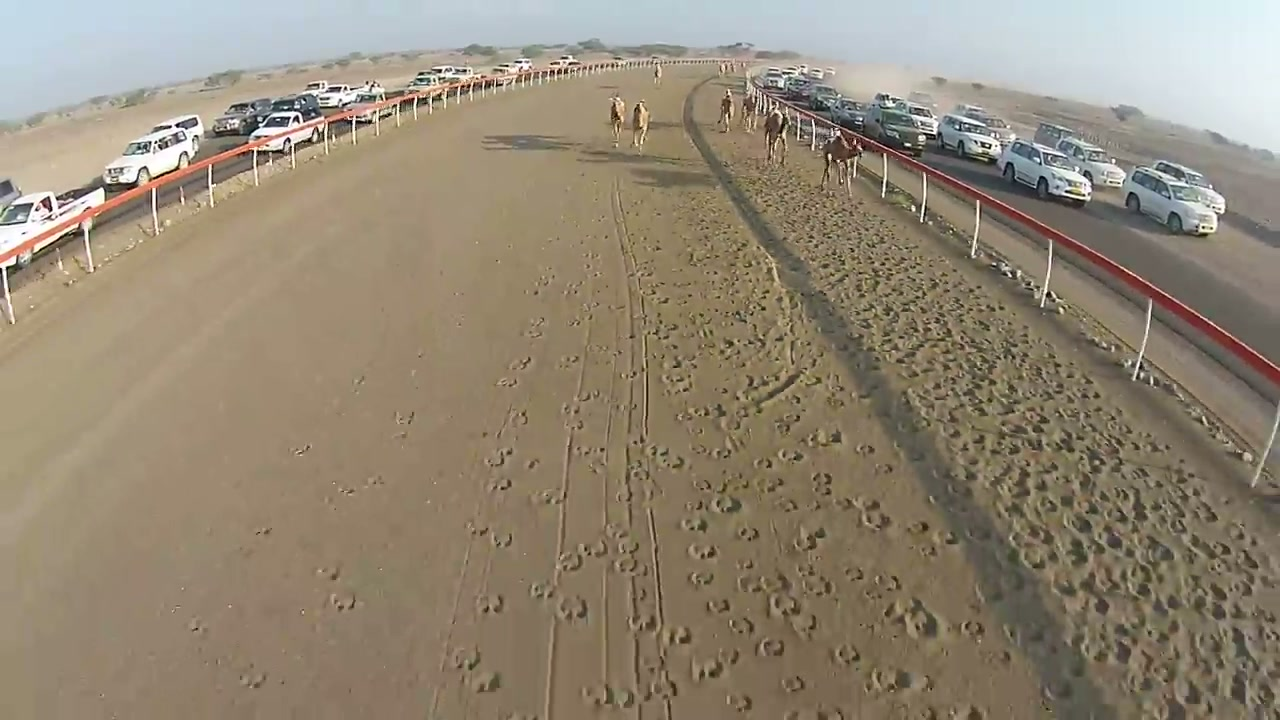animal_foot_print: (631, 162, 1120, 716), (947, 459, 1071, 526), (681, 483, 760, 568), (884, 598, 947, 639), (865, 667, 931, 693), (581, 685, 638, 709), (336, 475, 385, 496), (647, 668, 678, 701), (783, 705, 853, 719), (647, 445, 686, 469), (792, 526, 826, 551), (691, 657, 725, 682), (768, 592, 800, 618), (556, 596, 587, 621), (789, 612, 817, 639), (449, 646, 480, 670), (467, 671, 500, 693), (804, 428, 842, 447), (801, 574, 833, 596), (613, 555, 647, 575), (831, 643, 860, 666), (239, 666, 267, 689), (576, 538, 608, 558), (660, 625, 692, 645), (661, 373, 692, 393), (861, 510, 891, 530), (950, 703, 987, 719), (710, 494, 741, 513), (485, 447, 514, 467), (475, 594, 504, 614), (628, 612, 657, 632), (329, 592, 358, 612), (872, 573, 902, 592), (736, 573, 763, 593), (687, 543, 718, 560), (716, 647, 741, 668), (557, 552, 583, 572), (726, 693, 752, 713), (757, 637, 784, 656), (755, 475, 783, 493), (811, 472, 832, 496), (532, 489, 563, 505), (958, 620, 984, 639), (524, 317, 546, 339), (728, 617, 754, 635), (680, 515, 707, 532), (530, 275, 554, 294), (605, 522, 629, 541), (529, 582, 554, 600), (931, 530, 959, 546), (688, 570, 714, 587), (464, 519, 489, 536), (772, 497, 800, 512), (486, 476, 511, 492), (706, 598, 731, 614), (735, 525, 759, 541), (781, 676, 805, 692), (507, 409, 528, 427), (187, 617, 208, 635), (617, 537, 639, 554), (905, 520, 929, 535), (490, 532, 513, 547), (778, 449, 804, 462), (560, 402, 581, 418), (832, 496, 856, 510), (508, 357, 531, 371), (557, 355, 580, 369), (564, 416, 585, 431), (394, 410, 415, 425), (499, 711, 538, 719), (710, 447, 732, 460), (291, 443, 312, 456), (753, 457, 774, 470), (734, 557, 754, 570), (352, 374, 366, 392), (496, 376, 518, 387), (524, 457, 541, 471), (685, 500, 704, 511)
